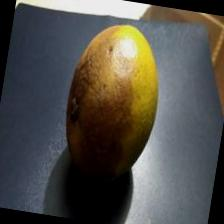Orange Rotten: (46, 5, 184, 203)
